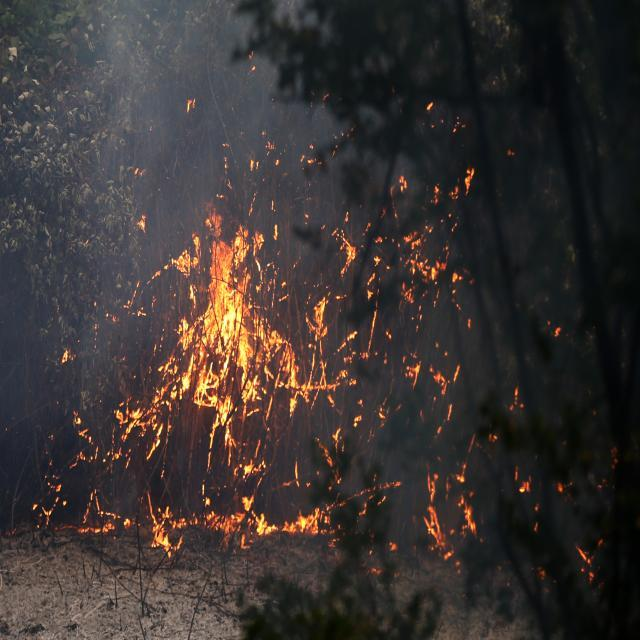Fire: (124, 192, 358, 447), (398, 163, 478, 315), (415, 464, 490, 573), (232, 479, 331, 548), (400, 344, 462, 434), (361, 231, 392, 368), (136, 478, 185, 564), (70, 404, 125, 472), (166, 493, 245, 538), (59, 490, 127, 538), (326, 206, 358, 284), (35, 479, 63, 546), (56, 346, 70, 370)
